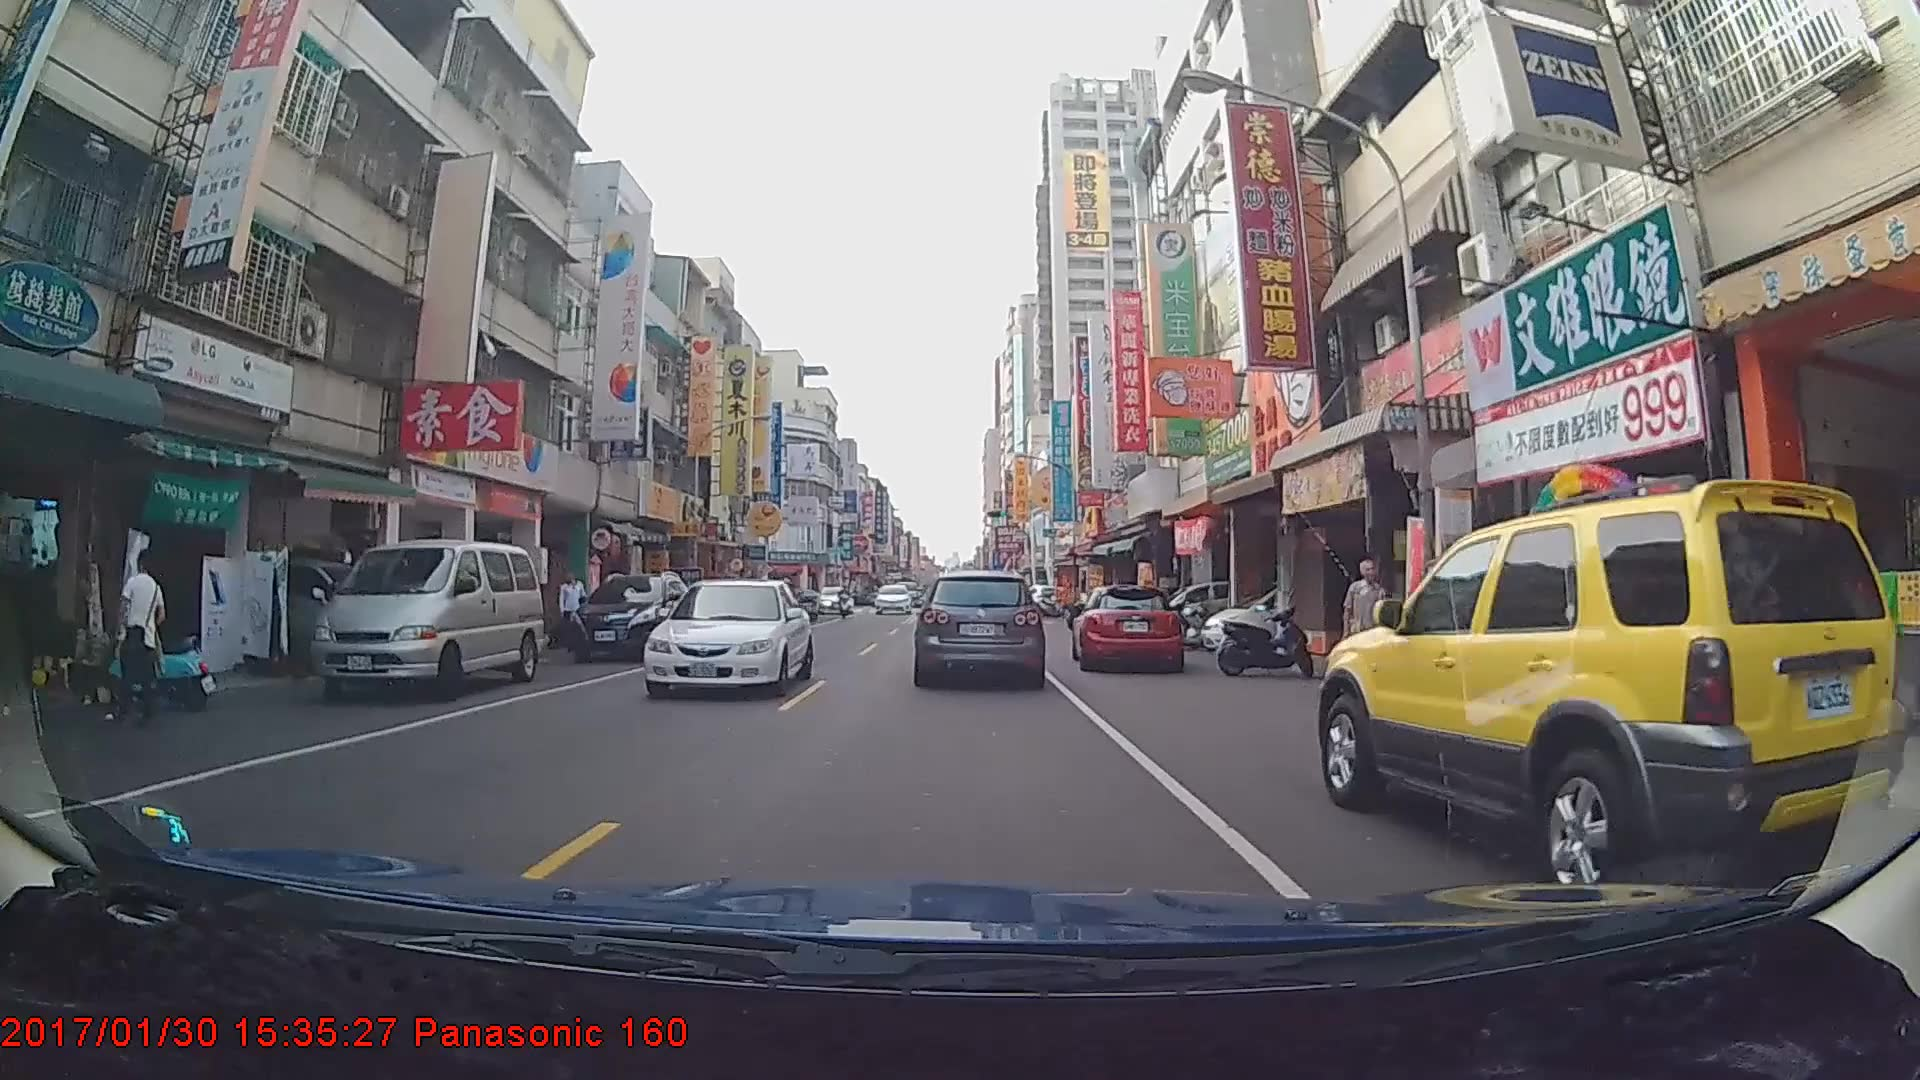pedestrian: (111, 555, 166, 734), (1340, 559, 1396, 700), (558, 571, 591, 645)
vehicle: (1316, 480, 1891, 905), (309, 540, 545, 705), (639, 576, 812, 699), (915, 568, 1043, 682), (568, 570, 693, 662), (1069, 580, 1183, 669), (872, 586, 912, 615), (817, 585, 853, 612)
